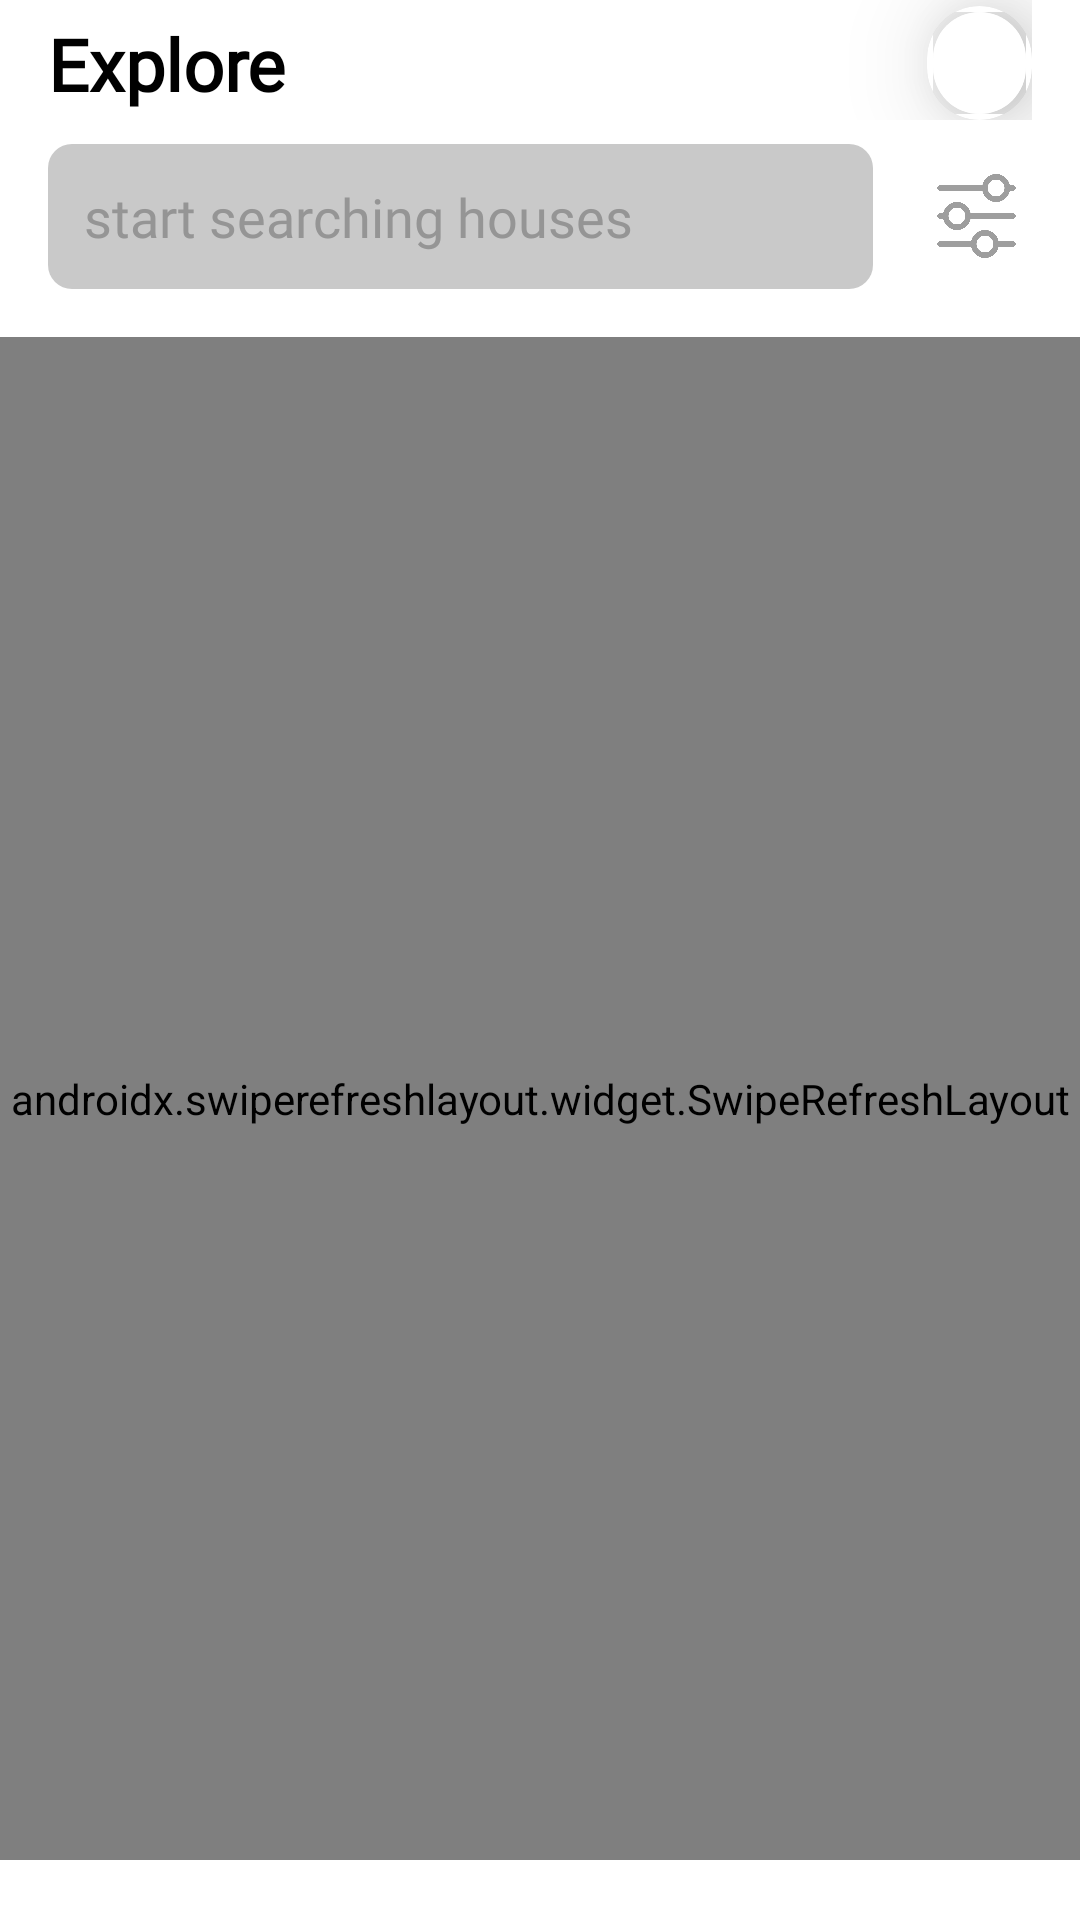

Named icons in this screenshot (1080×1920) and their centers, point (x, y):
filter: point (976, 216)
